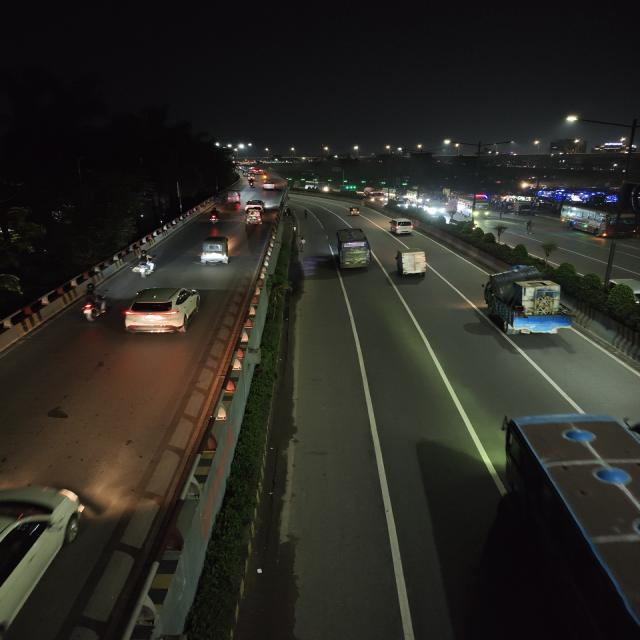bicycle: (521, 220, 537, 237)
bus: (560, 202, 640, 240), (331, 226, 373, 271), (457, 196, 492, 220), (419, 192, 450, 214)
car: (120, 285, 206, 338), (388, 216, 416, 236), (260, 181, 277, 191)
cng: (196, 235, 235, 267), (244, 208, 265, 228), (224, 190, 241, 204)
motorcycle: (77, 288, 111, 324), (129, 254, 159, 280), (206, 208, 223, 225), (346, 204, 362, 217), (246, 178, 256, 189)
pedestrian: (298, 236, 307, 253)
pickup_van: (478, 270, 581, 342)
truck: (391, 246, 433, 280), (364, 184, 384, 203), (514, 200, 535, 216)
